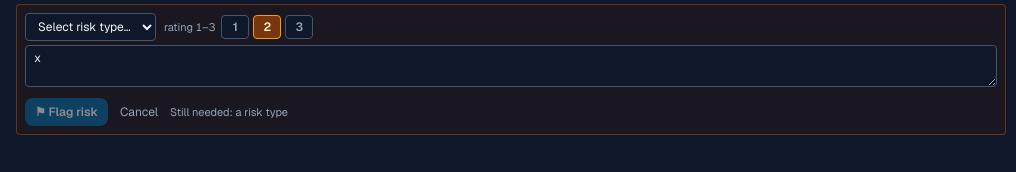
Scenario: ChecklistRiskForm › shows a refusal in place and keeps the note
This screenshot has width=1016, height=172.
Step 1. Select "Timing" in the dropdown with test id "check-risk-type" → (90, 27), box [25, 13, 156, 41]
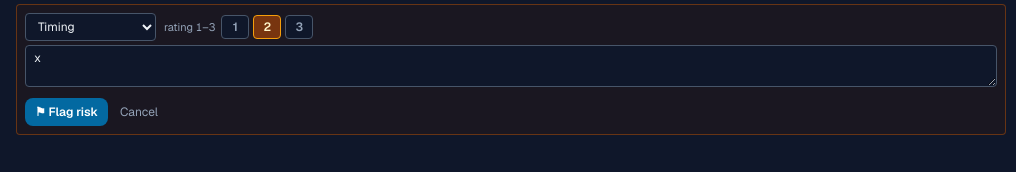
Step 2. Click the button with test id "check-risk-submit" → (66, 112), box [25, 98, 108, 126]
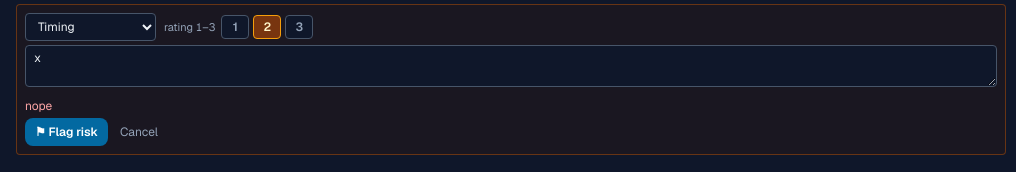
Expected: the text box with test id "check-risk-note" holds "x", [25, 45, 997, 87]
Expected: the message reads "nope", [25, 98, 52, 114]
